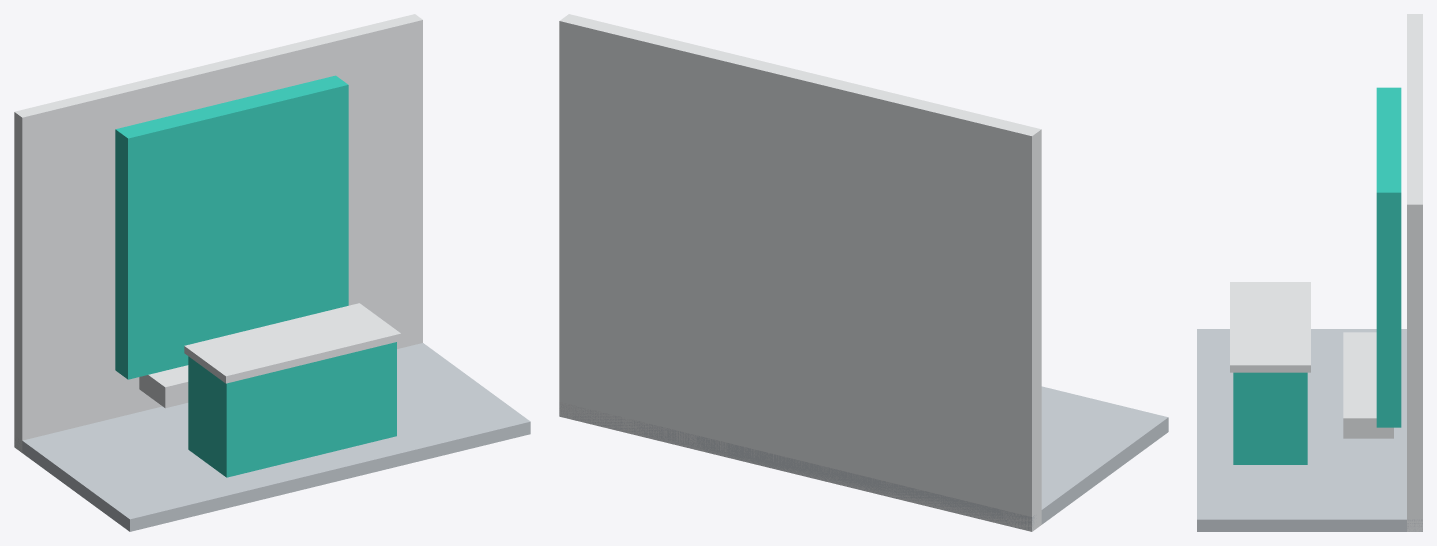
3 renders of one model, left to right at view 1: azimuth 30°, elevation 25°; view 2: azimuth 150°, elevation 25°; view 3: azimuth 270°, elevation 25°, orthographic. The views are drawn at different scales.
Parts seen in each view (by area): view 1: Exhibition Booth Concept; view 2: Exhibition Booth Concept; view 3: Exhibition Booth Concept.
Boxes of the visible parts, box(x1,y1,x2,y2) form: Exhibition Booth Concept: box(14, 14, 530, 531); Exhibition Booth Concept: box(559, 14, 1168, 531); Exhibition Booth Concept: box(1197, 14, 1422, 531).
Size of the model in its own units: 4 by 3.2 by 2.
